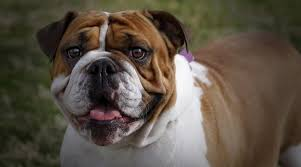Bulldog: (23, 4, 299, 166)
